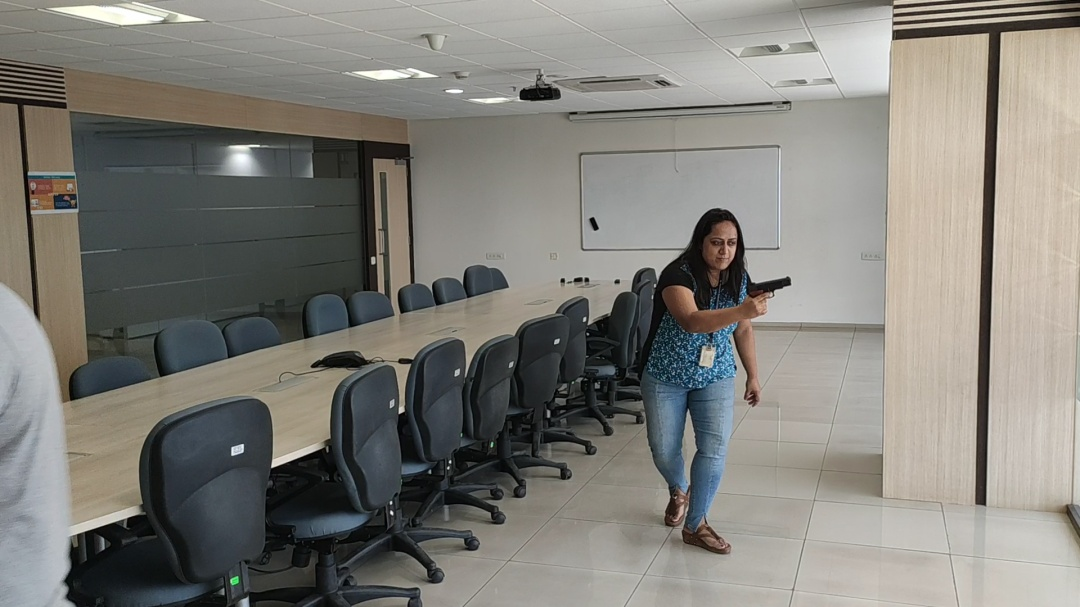gun: (745, 276, 792, 298)
